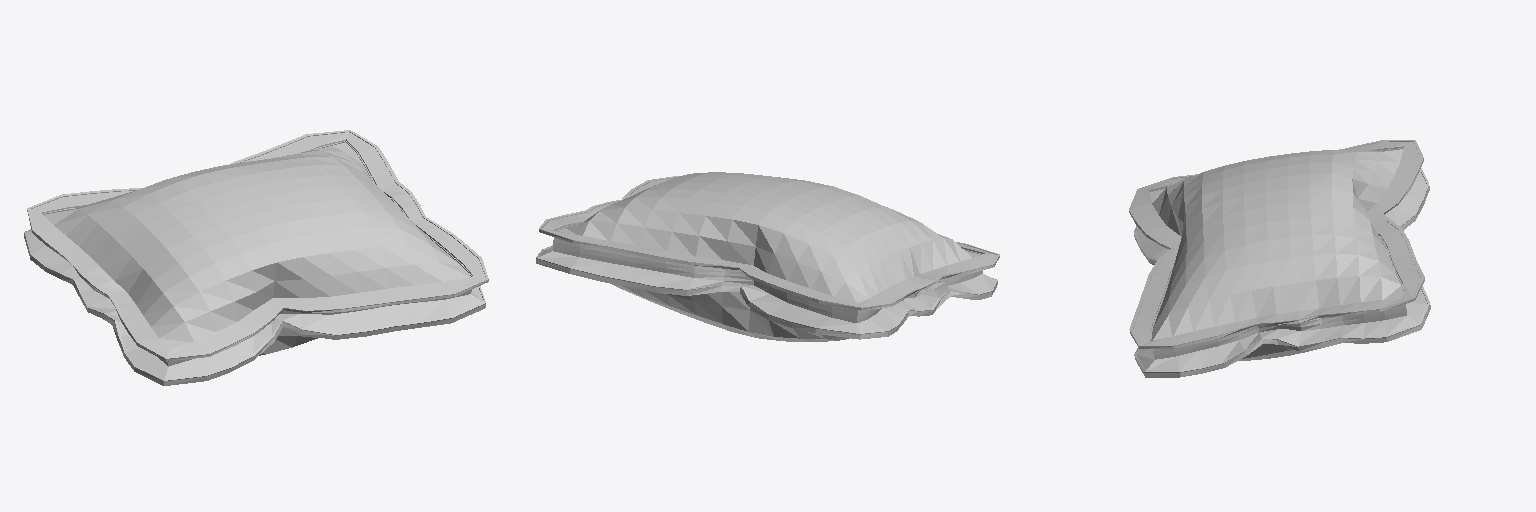
File: PillowE.obj
3 renders of one model, left to right at view 1: azimuth 30°, elevation 25°; view 2: azimuth 150°, elevation 25°; view 3: azimuth 270°, elevation 25°, orthographic.
Visible parts, largest first — view 1: pillow1; view 2: pillow1; view 3: pillow1.
Part boxes in pixels (left/top/right/bottom): pillow1: left=24, top=130, right=488, bottom=385; pillow1: left=536, top=172, right=999, bottom=341; pillow1: left=1129, top=140, right=1430, bottom=377.
Size of the model in its own units: 18.2 by 7 by 13.75.